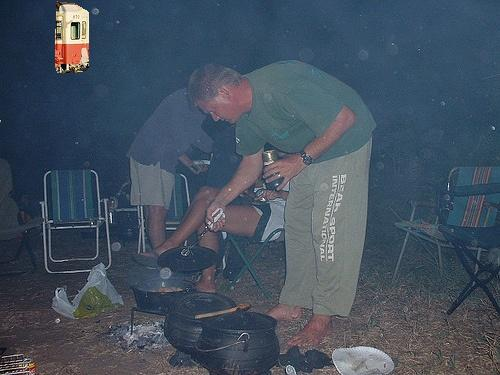tampered: (56, 2, 89, 73)
